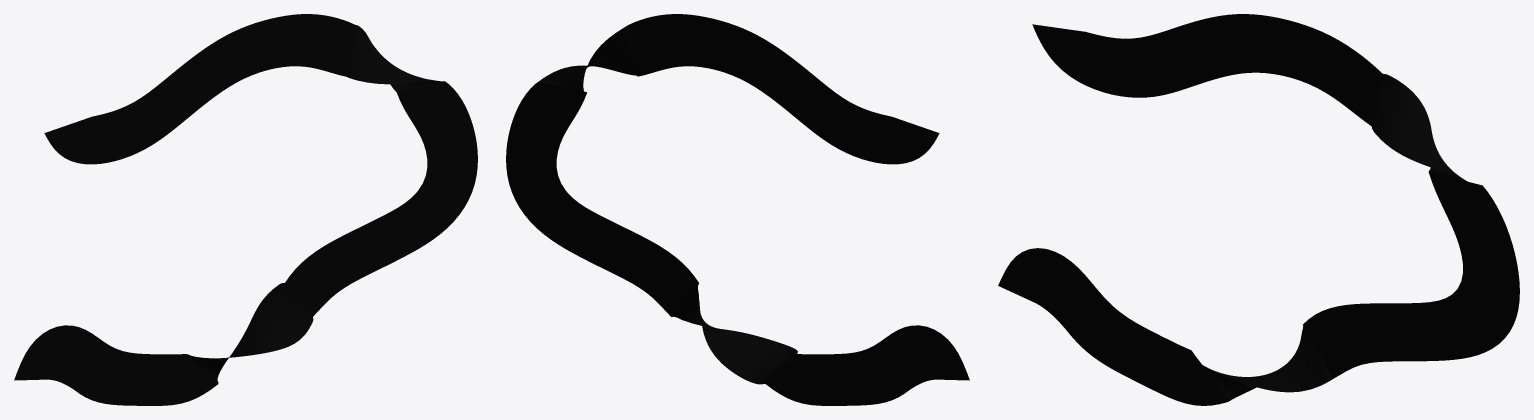
The model's file is Stripe0.glb.
The picture shows the model from 3 angles, left to right: view 1: azimuth 30°, elevation 25°; view 2: azimuth 150°, elevation 25°; view 3: azimuth 330°, elevation 25°; orthographic projection. The views are drawn at different scales.
Visible parts, largest first — view 1: node_id3; view 2: node_id3; view 3: node_id3.
Boxes of the visible parts, x1,y1,x2,y2 form: node_id3: (14,14,477,405); node_id3: (506,14,969,405); node_id3: (998,14,1519,405).
Size of the model in its own units: 0.512 by 0.3829 by 0.052.
Materials: 1 (1 with a texture image).
